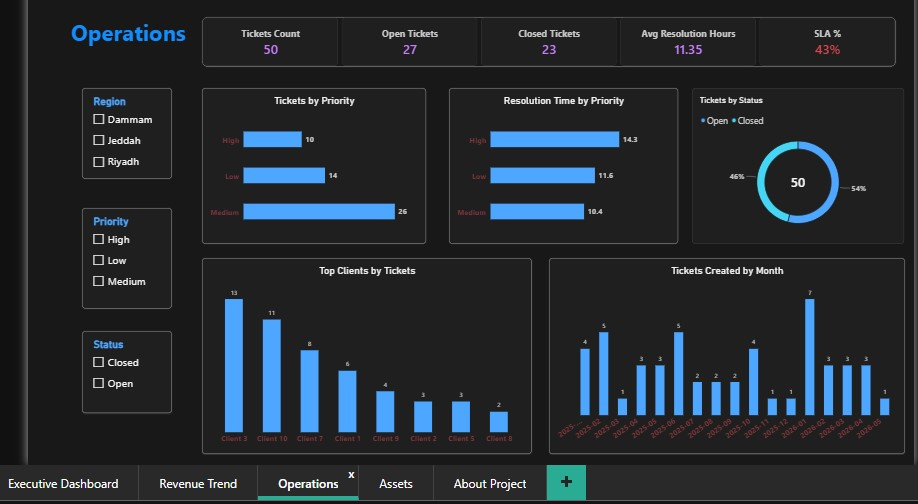

Layout of this report page (visuals, bound fields, positions):
{"tool":"powerbi","page":{"name":"Operations","canvas":[1920,1080],"ordinal":2},"visuals":[{"type":"cardVisual","fields":{"Data":["_Measures.Tickets Count","_Measures.Open Tickets","_Measures.Closed Tickets","_Measures.Avg Resolution Hours","_Measures.SLA %"]},"box":[377.5,107.5,1505,107.5],"z":0},{"type":"clusteredBarChart","title":"Tickets by Priority","fields":{"Category":["FactTickets.Priority"],"Y":["_Measures.Tickets Count"]},"box":[377.3,262.4,485.8,338.3],"z":1000},{"type":"donutChart","title":"Tickets by Status","fields":{"Category":["FactTickets.Status"],"Y":["_Measures.Tickets Count"]},"box":[1440,262.4,459.8,338.3],"z":2000},{"type":"clusteredBarChart","title":"Resolution Time by Priority","fields":{"Category":["FactTickets.Priority"],"Y":["_Measures.Avg Resolution Hours"]},"box":[912.5,262.5,496.6,338.3],"z":3000},{"type":"clusteredColumnChart","title":"Top Clients by Tickets","fields":{"Category":["DimClients.ClientName"],"Y":["_Measures.Tickets Count"]},"box":[376.5,631.9,715.3,424.9],"z":4000},{"type":"clusteredColumnChart","title":"Tickets Created by Month","fields":{"Category":["FactTickets.Created YearMonth"],"Y":["_Measures.Tickets Created"]},"box":[1129.4,631.9,771.8,424.9],"z":5000},{"type":"slicer","fields":{"Values":["DimClients.Region"]},"box":[117.5,262.5,195.2,197.3],"z":6000},{"type":"textbox","box":[92.5,107.5,285,70],"z":6001},{"type":"slicer","fields":{"Values":["FactTickets.Priority"]},"box":[117.5,522.5,195,217.5],"z":6002},{"type":"slicer","fields":{"Values":["FactTickets.Status"]},"box":[117.5,790,195,177.5],"z":6003}]}

Visuals, with their boxes on the page's 1920x1080 design canvas (x1, y1, x2, y2). These are canvas units, not pixel positions in the 918x504 screenshot, which may show the page scaled, cropped or inside an application window:
cardVisual - _Measures.Tickets Count x _Measures.Open Tickets: box=[378, 108, 1882, 215]
"Tickets by Priority" clusteredBarChart: box=[377, 262, 863, 601]
"Tickets by Status" donutChart: box=[1440, 262, 1900, 601]
"Resolution Time by Priority" clusteredBarChart: box=[912, 262, 1409, 601]
"Top Clients by Tickets" clusteredColumnChart: box=[376, 632, 1092, 1057]
"Tickets Created by Month" clusteredColumnChart: box=[1129, 632, 1901, 1057]
slicer - DimClients.Region: box=[118, 262, 313, 460]
textbox: box=[92, 108, 378, 178]
slicer - FactTickets.Priority: box=[118, 522, 312, 740]
slicer - FactTickets.Status: box=[118, 790, 312, 968]
